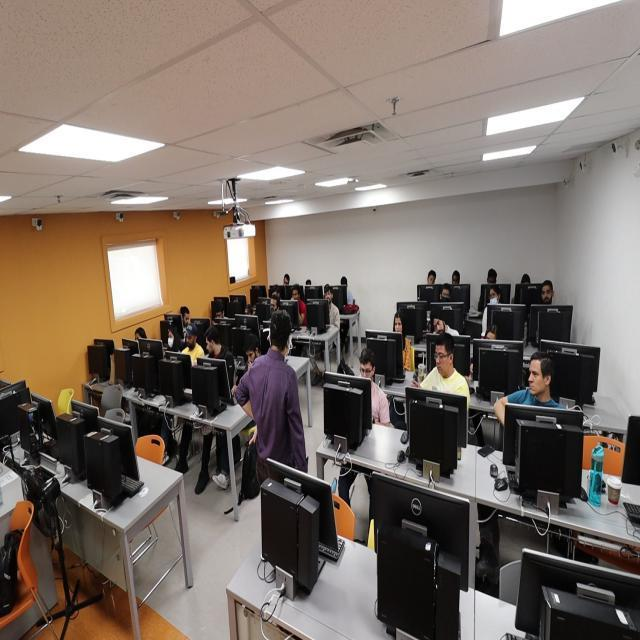Looking away: (434, 342, 452, 378), (360, 360, 374, 383), (205, 333, 218, 356), (185, 328, 198, 349), (433, 316, 446, 336), (245, 346, 259, 364), (182, 310, 190, 328)
Looking forward: (528, 358, 544, 395), (540, 285, 554, 304), (393, 316, 402, 334)
